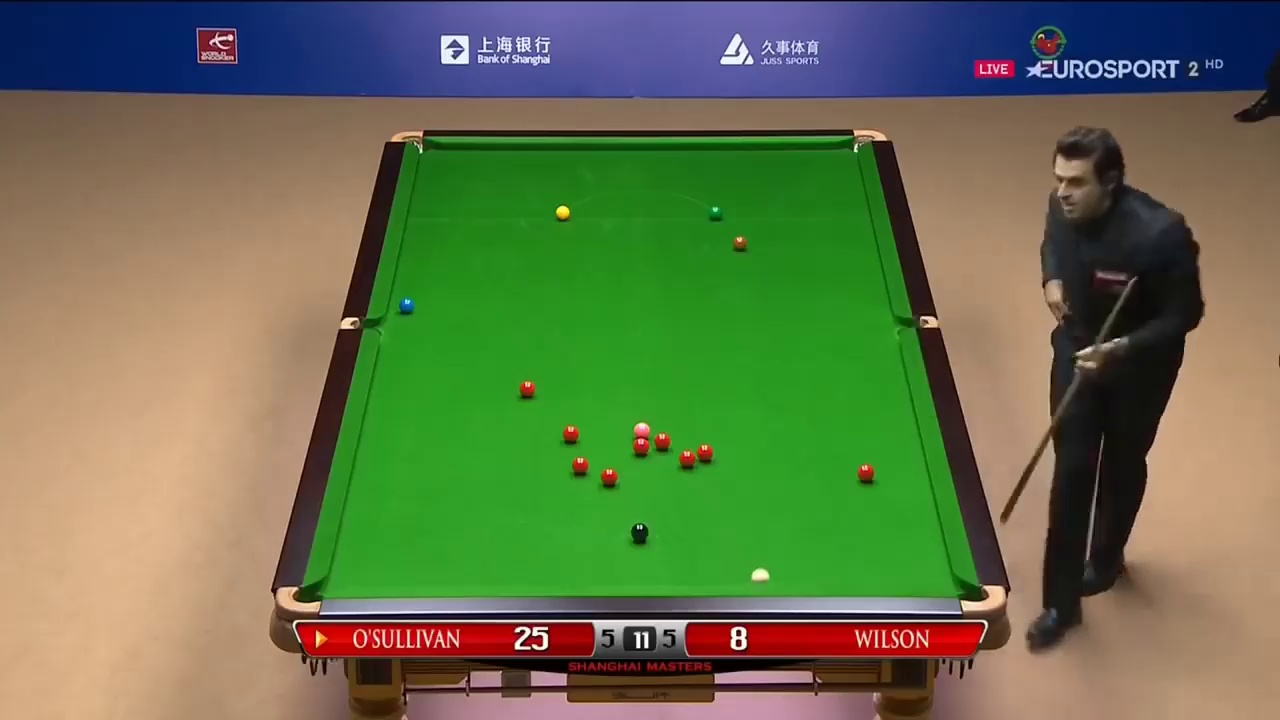ball: (695, 442, 714, 460), (569, 456, 589, 473), (562, 426, 580, 444), (629, 521, 647, 538), (857, 462, 873, 480), (679, 450, 695, 468), (598, 469, 616, 484), (655, 431, 671, 447), (552, 205, 570, 219), (519, 379, 534, 394), (398, 296, 412, 312), (732, 234, 746, 248), (633, 436, 646, 449)
